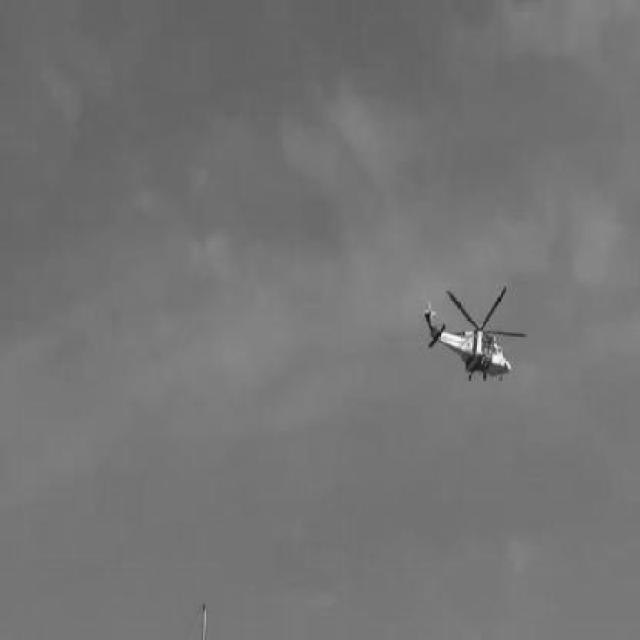helikopter: (421, 272, 530, 391)
